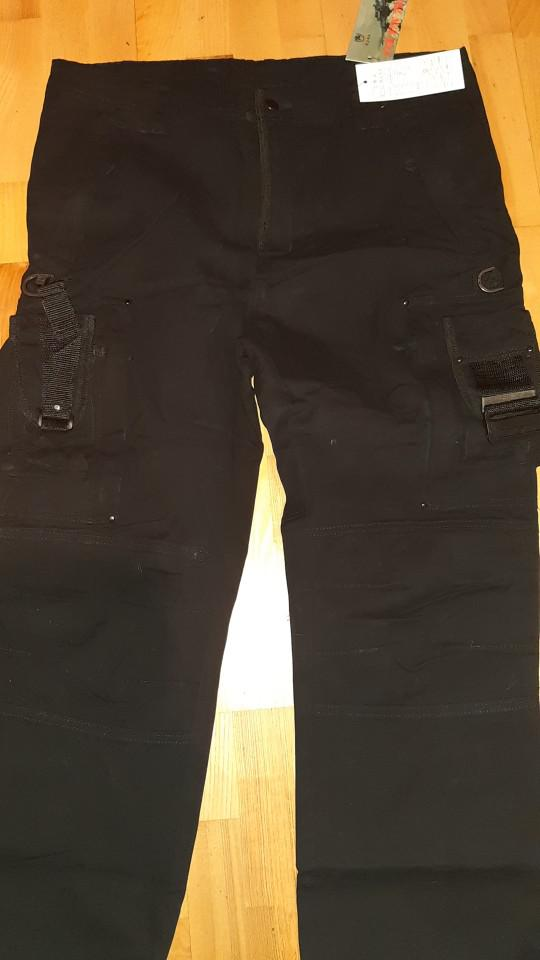pants: (16, 60, 540, 923)
